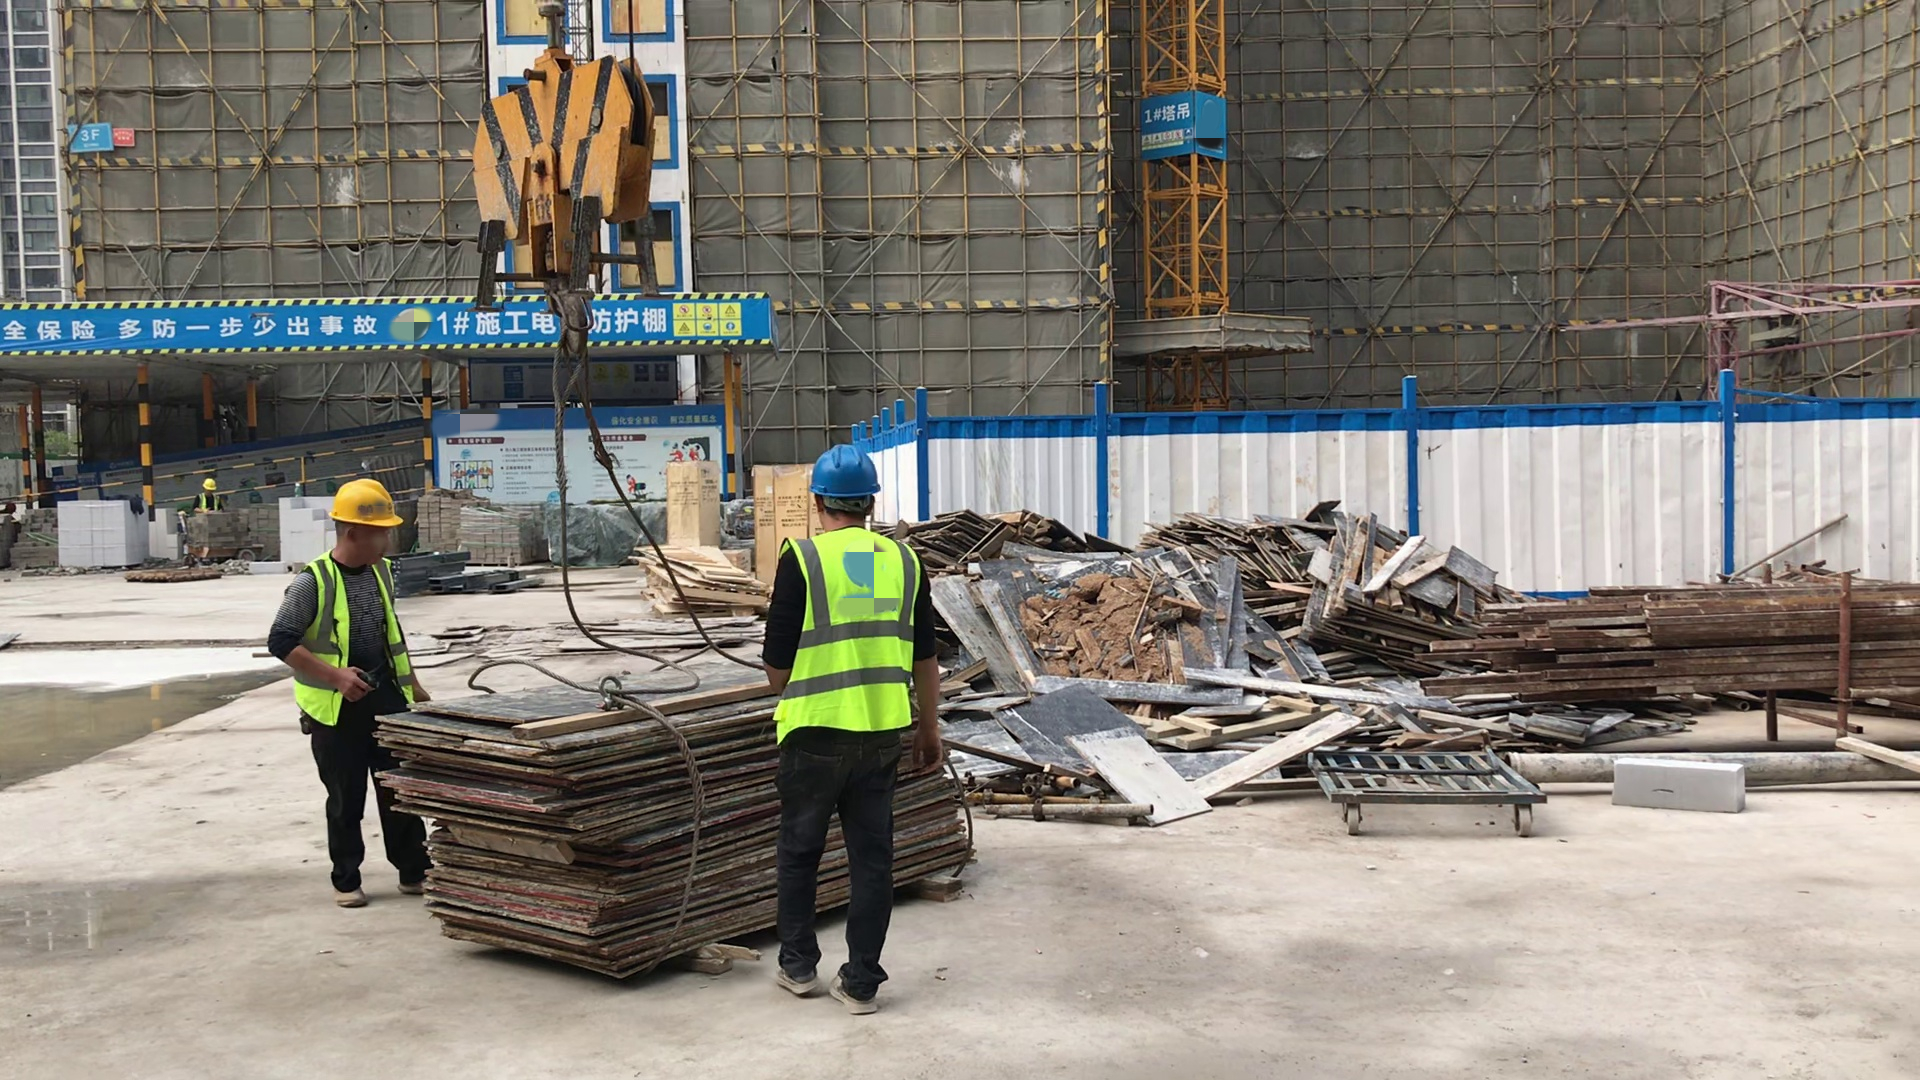board: (374, 698, 1002, 979)
brick: (53, 499, 183, 571), (275, 496, 354, 564)
helmet: (807, 447, 879, 497), (327, 480, 403, 528), (201, 479, 216, 490)
hook: (465, 49, 655, 360)
person: (760, 445, 945, 1006), (271, 478, 438, 908), (194, 478, 224, 512)
slogan: (6, 313, 376, 340), (673, 299, 741, 338), (1142, 127, 1182, 150)
vest: (777, 525, 917, 747), (296, 551, 413, 725), (198, 492, 219, 512)
